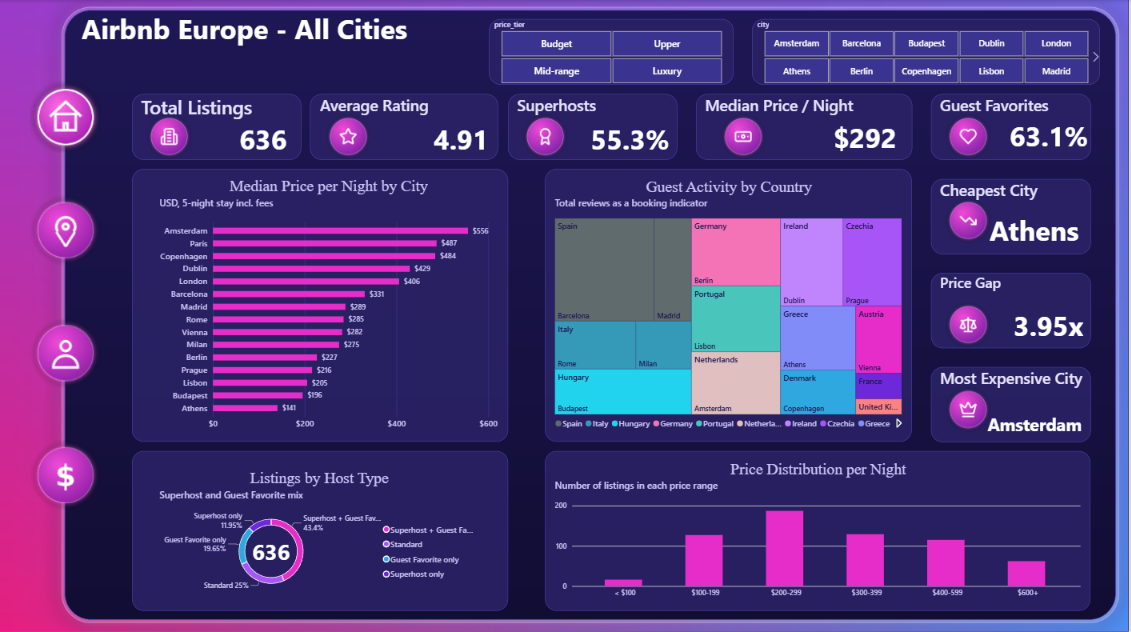

This screenshot's page, from the dashboard's own definition file:
{"tool":"powerbi","page":{"name":"overview","canvas":[1920,1080],"ordinal":0},"visuals":[{"type":"shape","box":[224,160,288,112],"z":0},{"type":"cardVisual","fields":{"Data":["dim_city.Dashboard Title"]},"box":[80,0,672,96],"z":1000},{"type":"cardVisual","fields":{"Data":["dim_city.Total Listings"]},"box":[208,176,480,120],"z":2000},{"type":"shape","box":[528,160,320,112],"z":3000},{"type":"shape","box":[864,160,288,112],"z":4000},{"type":"cardVisual","fields":{"Data":["dim_city.Superhost %"]},"box":[832,176,480,120],"z":5000},{"type":"shape","box":[1184,160,368,112],"z":6000},{"type":"cardVisual","fields":{"Data":["dim_city.Avg Rating"]},"box":[544,176,480,120],"z":7000},{"type":"shape","box":[1584,160,272,112],"z":8000},{"type":"cardVisual","fields":{"Data":["dim_city.Guest Favorite %"]},"box":[1648,176,272,112],"z":9000},{"type":"shape","box":[1584,304,272,128],"z":10000},{"type":"shape","box":[1584,464,272,128],"z":11000},{"type":"cardVisual","fields":{"Data":["dim_city.Cheapest City"]},"box":[1632,336,256,112],"z":12000},{"type":"shape","box":[1584,624,272,128],"z":13000},{"type":"cardVisual","fields":{"Data":["dim_city.Price Gap (x)"]},"box":[1664,496,240,112],"z":14000},{"type":"shape","box":[224,288,640,464],"z":15000},{"type":"clusteredBarChart","title":"Median Price per Night by City","fields":{"Category":["dim_city.city"],"Y":["dim_city.Median Price per Night"]},"box":[256,288,608,464],"z":16000},{"type":"shape","box":[224,768,640,272],"z":17000},{"type":"donutChart","title":"Listings by Host Type","fields":{"Category":["dim_host_segment.host_segment"],"Y":["dim_city.Total Listings"]},"box":[256,784,576,240],"z":18000},{"type":"cardVisual","fields":{"Data":["dim_city.Median Price per Night"]},"box":[1232,160,480,144],"z":19000},{"type":"cardVisual","fields":{"Data":["dim_city.Most Expensive City"]},"box":[1648,656,224,128],"z":20000},{"type":"actionButton","box":[48,96,128,208],"z":21000},{"type":"actionButton","box":[48,288,128,208],"z":22000},{"type":"actionButton","box":[48,496,128,208],"z":23000},{"type":"actionButton","box":[48,704,128,208],"z":24000},{"type":"slicer","fields":{"Values":["dim_city.city"]},"box":[1280,32,592,112],"z":25000},{"type":"clusteredColumnChart","title":"Price Distribution per Night","fields":{"Category":["fact_listing.Price Band"],"Y":["dim_city.Total Listings"]},"box":[928,768,928,272],"z":26000},{"type":"treemap","title":"Guest Activity by Country","fields":{"Details":["dim_city.city"],"Group":["dim_city.country"],"Values":["dim_city.Total Reviews"]},"box":[928,288,624,464],"z":27000},{"type":"textbox","box":[240,160,208,48],"z":28000},{"type":"textbox","box":[544,160,208,48],"z":29000},{"type":"textbox","box":[880,160,208,48],"z":30000},{"type":"textbox","box":[1200,160,304,48],"z":31000},{"type":"textbox","box":[1600,160,208,48],"z":32000},{"type":"textbox","box":[1600,304,208,48],"z":33000},{"type":"textbox","box":[1600,464,208,64],"z":34000},{"type":"textbox","box":[1600,624,256,48],"z":35000},{"type":"image","box":[240,192,96,80],"z":36000},{"type":"image","box":[544,192,96,80],"z":37000},{"type":"image","box":[880,192,96,80],"z":38000},{"type":"image","box":[1216,192,96,80],"z":39000},{"type":"image","box":[1600,192,96,80],"z":40000},{"type":"image","box":[1600,336,96,80],"z":41000},{"type":"image","box":[1600,512,96,80],"z":42000},{"type":"image","box":[1600,656,96,80],"z":43000},{"type":"slicer","fields":{"Values":["dim_price_tier.price_tier"]},"box":[832,32,416,112],"z":43001}]}

Visuals, with their boxes in screenshot pixels (x1, y1, x2, y2), scaled from the page's 1920x1080 canvas onto the 1131x632 screenshot:
shape: bbox=(132, 94, 302, 159)
cardVisual - dim_city.Dashboard Title: bbox=(47, 0, 443, 56)
cardVisual - dim_city.Total Listings: bbox=(123, 103, 405, 173)
shape: bbox=(311, 94, 500, 159)
shape: bbox=(509, 94, 679, 159)
cardVisual - dim_city.Superhost %: bbox=(490, 103, 773, 173)
shape: bbox=(697, 94, 914, 159)
cardVisual - dim_city.Avg Rating: bbox=(320, 103, 603, 173)
shape: bbox=(933, 94, 1093, 159)
cardVisual - dim_city.Guest Favorite %: bbox=(971, 103, 1130, 169)
shape: bbox=(933, 178, 1093, 253)
shape: bbox=(933, 272, 1093, 346)
cardVisual - dim_city.Cheapest City: bbox=(961, 197, 1112, 262)
shape: bbox=(933, 365, 1093, 440)
cardVisual - dim_city.Price Gap (x): bbox=(980, 290, 1122, 356)
shape: bbox=(132, 169, 509, 440)
"Median Price per Night by City" clusteredBarChart: bbox=(151, 169, 509, 440)
shape: bbox=(132, 449, 509, 609)
"Listings by Host Type" donutChart: bbox=(151, 459, 490, 599)
cardVisual - dim_city.Median Price per Night: bbox=(726, 94, 1008, 178)
cardVisual - dim_city.Most Expensive City: bbox=(971, 384, 1103, 459)
actionButton: bbox=(28, 56, 104, 178)
actionButton: bbox=(28, 169, 104, 290)
actionButton: bbox=(28, 290, 104, 412)
actionButton: bbox=(28, 412, 104, 534)
slicer - dim_city.city: bbox=(754, 19, 1103, 84)
"Price Distribution per Night" clusteredColumnChart: bbox=(547, 449, 1093, 609)
"Guest Activity by Country" treemap: bbox=(547, 169, 914, 440)
textbox: bbox=(141, 94, 264, 122)
textbox: bbox=(320, 94, 443, 122)
textbox: bbox=(518, 94, 641, 122)
textbox: bbox=(707, 94, 886, 122)
textbox: bbox=(943, 94, 1065, 122)
textbox: bbox=(943, 178, 1065, 206)
textbox: bbox=(943, 272, 1065, 309)
textbox: bbox=(943, 365, 1093, 393)
image: bbox=(141, 112, 198, 159)
image: bbox=(320, 112, 377, 159)
image: bbox=(518, 112, 575, 159)
image: bbox=(716, 112, 773, 159)
image: bbox=(943, 112, 999, 159)
image: bbox=(943, 197, 999, 243)
image: bbox=(943, 300, 999, 346)
image: bbox=(943, 384, 999, 431)
slicer - dim_price_tier.price_tier: bbox=(490, 19, 735, 84)
